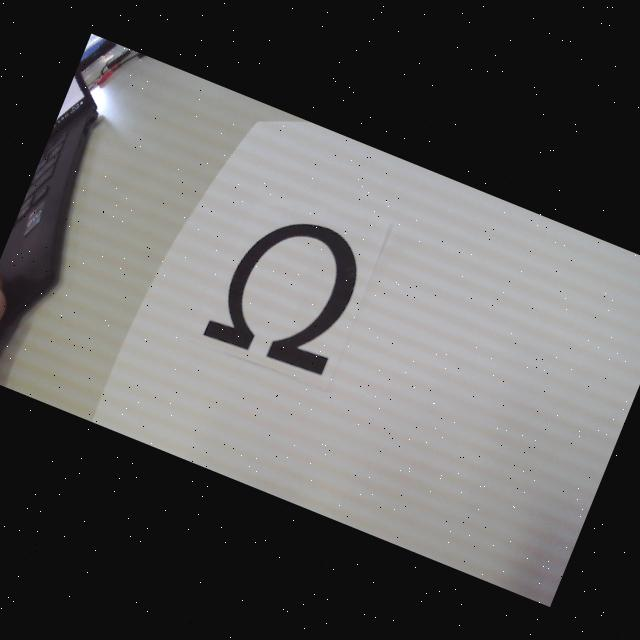OMEGA: (202, 199, 373, 382)
